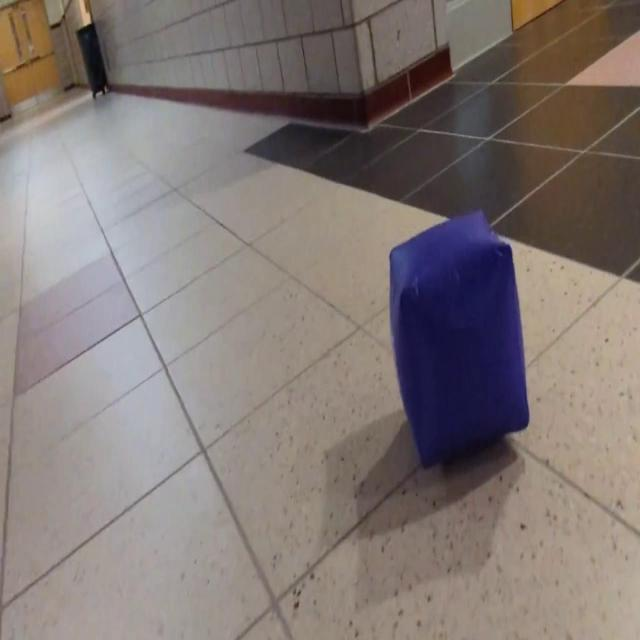frc_cube: (389, 213, 530, 468)
